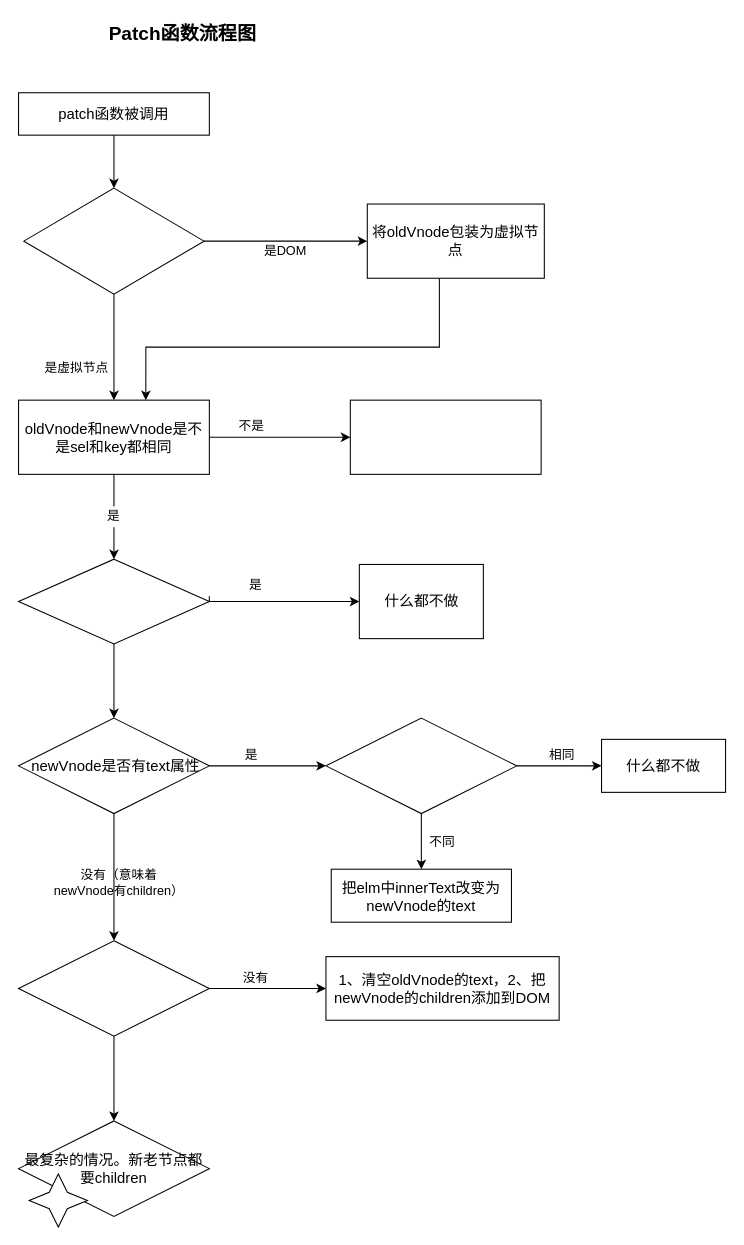
Image size: 744x1245. Some labels were removed from this diagram. Each missing label, with the centre of its shape:
newVnode的text是否和oldVnode的text相同: (x=421, y=765)
oldVnode是虚拟节点还是DOM节点？: (x=113, y=240)
oldVnode有没有Children: (x=113, y=988)
暴力删除旧的，插入新的: (x=445, y=436)
精细化比较 oldVnode和newVnode是否内存中同一个对象: (x=113, y=601)
